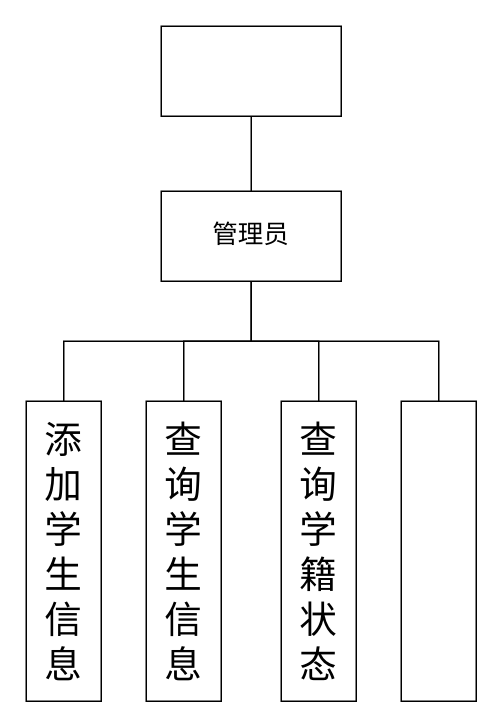
Some shapes in this 503 by 728 pixel diagram are drawn without their labels. The box of each missing label's shape, as (x1, y1, x2, y2) in pixels:
学生学籍管理系统: (160, 25, 341, 116)
系统维护: (400, 400, 476, 701)
